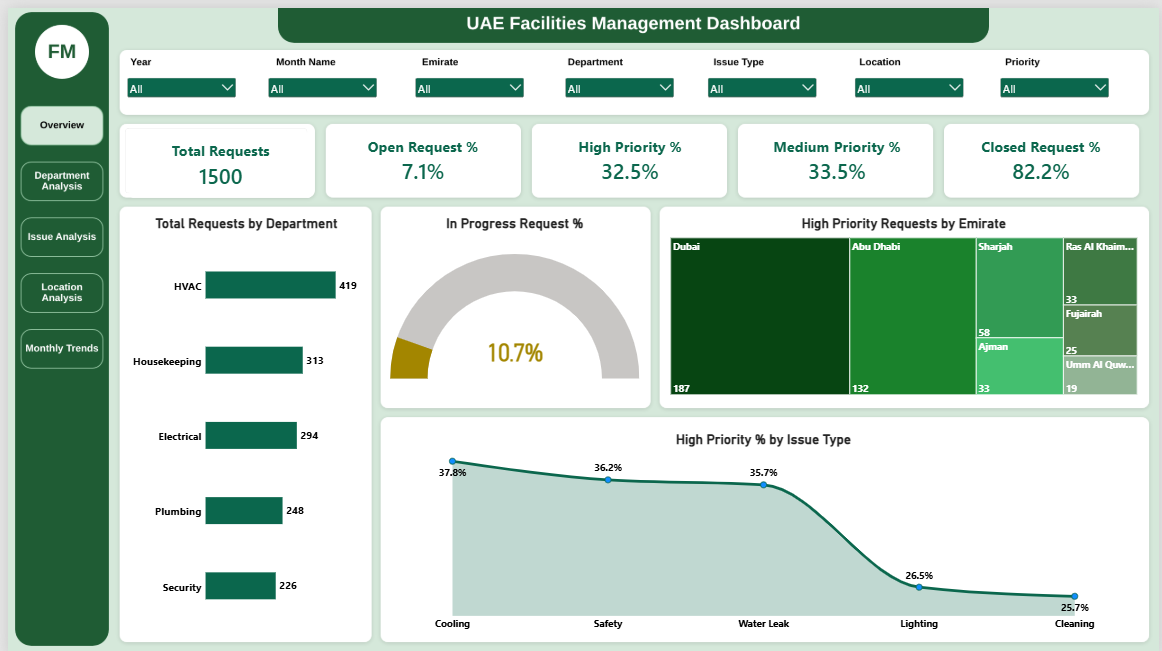

Layout of this report page (visuals, bound fields, positions):
{"tool":"powerbi","page":{"name":"Overview","canvas":[2560,1440],"ordinal":0},"visuals":[{"type":"cardVisual","fields":{"Data":["Measure Table.Total Requests"]},"box":[260,265.7,405.7,145.7],"z":0},{"type":"cardVisual","fields":{"Data":["Measure Table.Total Requests"]},"box":[270,275.7,405.7,145.7],"z":1000},{"type":"cardVisual","fields":{"Data":["Measure Table.Open Request %"]},"box":[720,265.7,405.7,145.7],"z":2000},{"type":"cardVisual","fields":{"Data":["Measure Table.Medium Priority %"]},"box":[1640,265.7,405.7,145.7],"z":3000},{"type":"cardVisual","fields":{"Data":["Measure Table.High Priority %"]},"box":[1180,265.7,405.7,145.7],"z":4000},{"type":"cardVisual","fields":{"Data":["Measure Table.Closed Request %"]},"box":[2094.3,265.7,405.7,145.7],"z":5000},{"type":"slicer","fields":{"Values":["Calendar.Year"]},"box":[260,151.4,251.4,62.9],"z":6000},{"type":"slicer","fields":{"Values":["Calendar.Month Name"]},"box":[574.3,151.4,251.4,62.9],"z":7000},{"type":"slicer","fields":{"Values":["FM_Requests.Emirate"]},"box":[900,151.4,251.4,62.9],"z":8000},{"type":"slicer","fields":{"Values":["FM_Requests.Department"]},"box":[1234.3,151.4,251.4,62.9],"z":9000},{"type":"slicer","fields":{"Values":["FM_Requests.Priority"]},"box":[2200,151.4,251.4,62.9],"z":10000},{"type":"slicer","fields":{"Values":["FM_Requests.Location"]},"box":[1877.1,151.4,251.4,62.9],"z":11000},{"type":"slicer","fields":{"Values":["FM_Requests.Issue Type"]},"box":[1548.6,151.4,251.4,62.9],"z":12000},{"type":"barChart","title":"Total Requests by Department","fields":{"Category":["FM_Requests.Department"],"Y":["Measure Table.Total Requests"]},"box":[260,445.7,540,957.1],"z":13000},{"type":"gauge","fields":{"Y":["Measure Table.In Progress Request %"]},"box":[834.3,445.7,585.7,428.6],"z":14000},{"type":"lineChart","title":"High Priority % by Issue Type","fields":{"Category":["FM_Requests.Issue Type"],"Y":["Measure Table.High Priority %"]},"box":[834.3,925.7,1691.4,477.1],"z":15000},{"type":"treemap","title":"High Priority Requests by Emirate","fields":{"Group":["FM_Requests.Emirate"],"Values":["Measure Table.High Priority Requests"]},"box":[1457.1,445.7,1068.6,428.6],"z":16000},{"type":"actionButton","box":[28,224,184,88],"z":16001},{"type":"actionButton","box":[28,348,184,88],"z":16002},{"type":"actionButton","box":[28,472,184,88],"z":16003},{"type":"actionButton","box":[28,596,184,88],"z":16004},{"type":"actionButton","box":[28,720,184,88],"z":16005}]}

Visuals, with their boxes on the page's 2560x1440 design canvas (x1, y1, x2, y2). These are canvas units, not pixel positions in the 1162x651 screenshot, which may show the page scaled, cropped or inside an application window:
cardVisual - Measure Table.Total Requests: 260:266:666:411
cardVisual - Measure Table.Total Requests: 270:276:676:421
cardVisual - Measure Table.Open Request %: 720:266:1126:411
cardVisual - Measure Table.Medium Priority %: 1640:266:2046:411
cardVisual - Measure Table.High Priority %: 1180:266:1586:411
cardVisual - Measure Table.Closed Request %: 2094:266:2500:411
slicer - Calendar.Year: 260:151:511:214
slicer - Calendar.Month Name: 574:151:826:214
slicer - FM_Requests.Emirate: 900:151:1151:214
slicer - FM_Requests.Department: 1234:151:1486:214
slicer - FM_Requests.Priority: 2200:151:2451:214
slicer - FM_Requests.Location: 1877:151:2128:214
slicer - FM_Requests.Issue Type: 1549:151:1800:214
"Total Requests by Department" barChart: 260:446:800:1403
gauge - Measure Table.In Progress Request %: 834:446:1420:874
"High Priority % by Issue Type" lineChart: 834:926:2526:1403
"High Priority Requests by Emirate" treemap: 1457:446:2526:874
actionButton: 28:224:212:312
actionButton: 28:348:212:436
actionButton: 28:472:212:560
actionButton: 28:596:212:684
actionButton: 28:720:212:808
